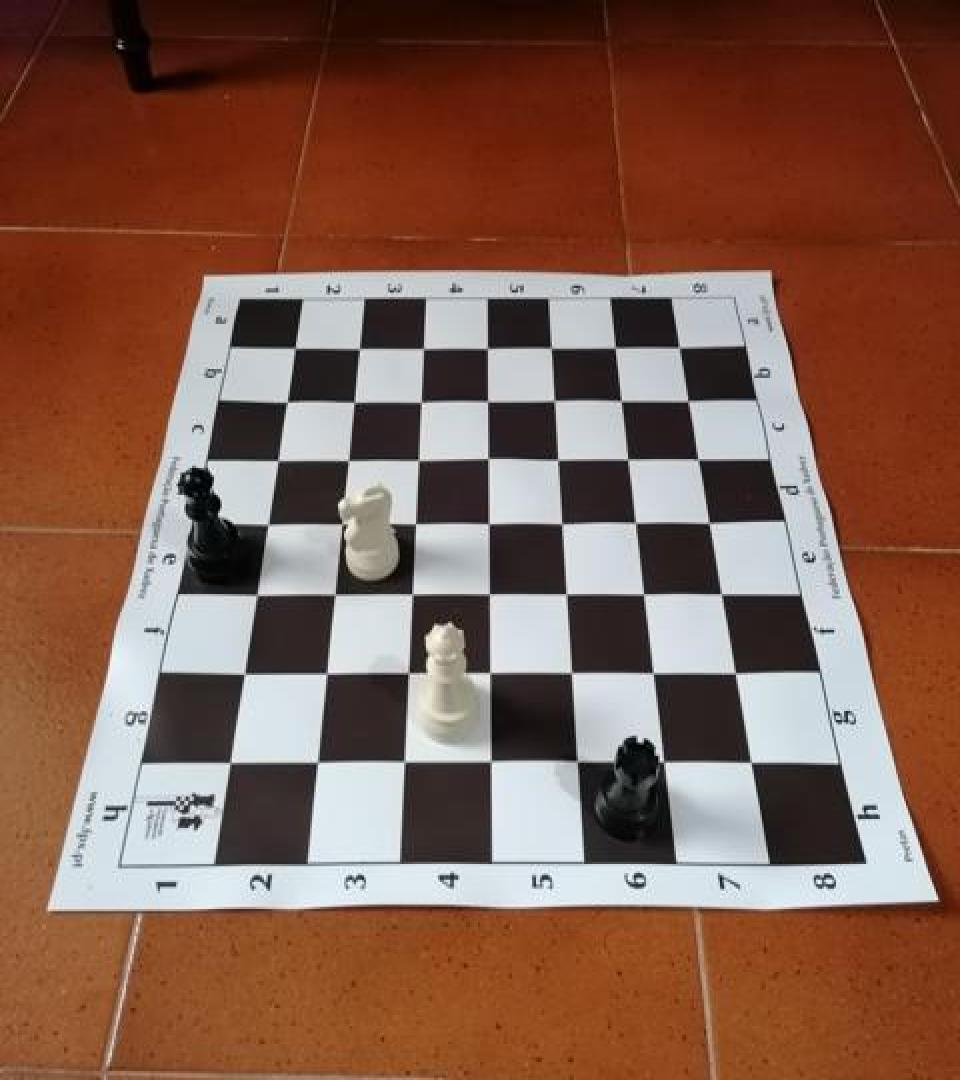xcorner: (666, 327, 696, 361), (602, 327, 632, 361), (280, 330, 310, 364), (675, 380, 705, 414), (608, 381, 638, 415), (541, 381, 571, 415), (474, 381, 504, 415), (406, 381, 436, 415), (339, 382, 369, 416), (272, 382, 302, 416), (545, 440, 575, 474), (474, 440, 504, 474), (404, 440, 434, 474), (333, 441, 363, 475), (263, 441, 293, 475), (697, 503, 727, 537), (623, 503, 653, 537), (549, 504, 579, 538), (475, 504, 505, 538), (401, 504, 431, 538), (327, 505, 357, 539), (253, 505, 283, 539), (709, 574, 739, 608), (631, 575, 661, 609), (553, 575, 583, 609), (475, 575, 505, 609), (397, 576, 427, 610), (319, 576, 349, 610), (241, 576, 271, 610), (723, 654, 753, 688), (641, 654, 671, 688), (559, 654, 589, 688), (476, 654, 506, 688), (394, 654, 424, 688), (311, 656, 341, 690), (229, 656, 259, 690), (739, 741, 769, 775), (652, 742, 682, 776), (564, 742, 594, 776), (477, 744, 507, 778), (390, 744, 420, 778), (302, 744, 332, 778), (215, 744, 245, 778), (538, 329, 568, 362), (473, 329, 503, 362), (409, 329, 439, 362), (345, 329, 375, 362), (686, 439, 716, 472), (615, 439, 645, 472)
